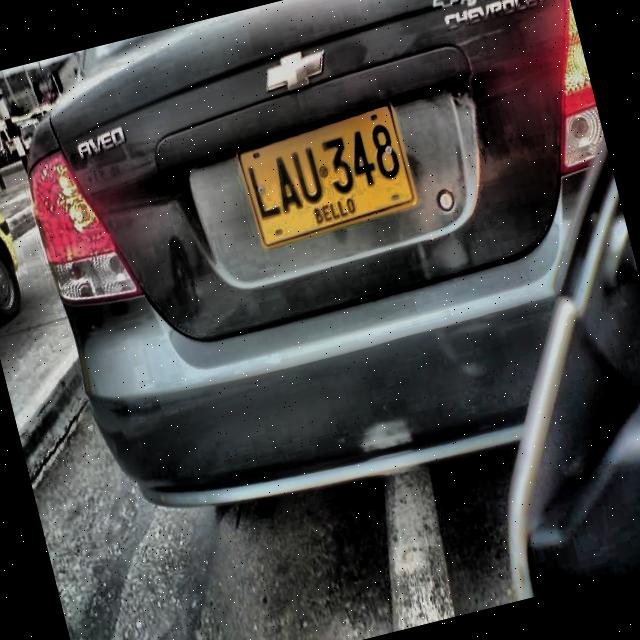3: (319, 133, 359, 197)
4: (343, 126, 382, 190)
8: (366, 119, 405, 183)
A: (267, 152, 305, 215)
L: (244, 158, 284, 223)
U: (287, 144, 327, 207)
